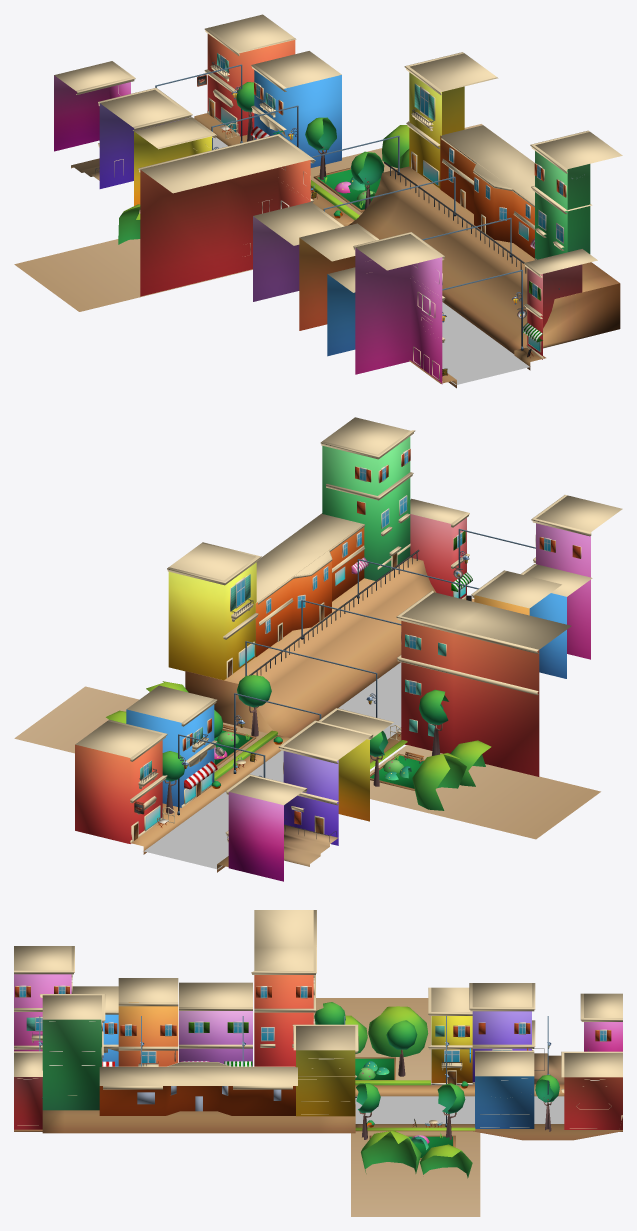
The model's file is city_Talha_Single_Patch.fbx.
3 renders of one model, top to bottom at view 1: azimuth 30°, elevation 25°; view 2: azimuth 150°, elevation 25°; view 3: azimuth 270°, elevation 25°, orthographic. The views are drawn at different scales.
Parts seen in each view (by area): view 1: city, side road, road2; view 2: city, side road, road2; view 3: city, side road, road2.
Boxes of the visible parts, left/top/right/bottom form: city: left=14, top=14, right=622, bottom=388; side road: left=348, top=166, right=620, bottom=353; road2: left=213, top=137, right=530, bottom=384; city: left=14, top=417, right=622, bottom=881; side road: left=185, top=557, right=436, bottom=737; road2: left=143, top=662, right=401, bottom=869; city: left=14, top=910, right=622, bottom=1216; side road: left=42, top=1104, right=355, bottom=1133; road2: left=355, top=1096, right=564, bottom=1123.
Bounding box in the file's own units: 2042 × 697 × 2401.
